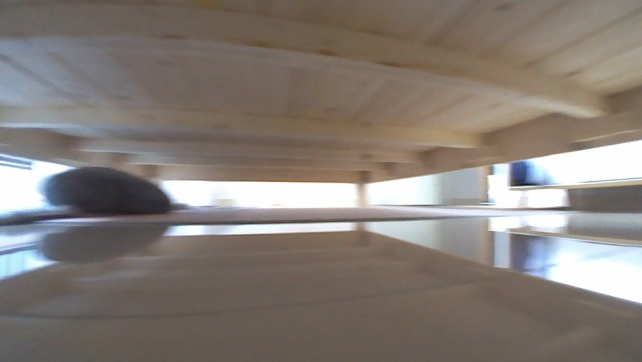blanket: (44, 203, 481, 227)
